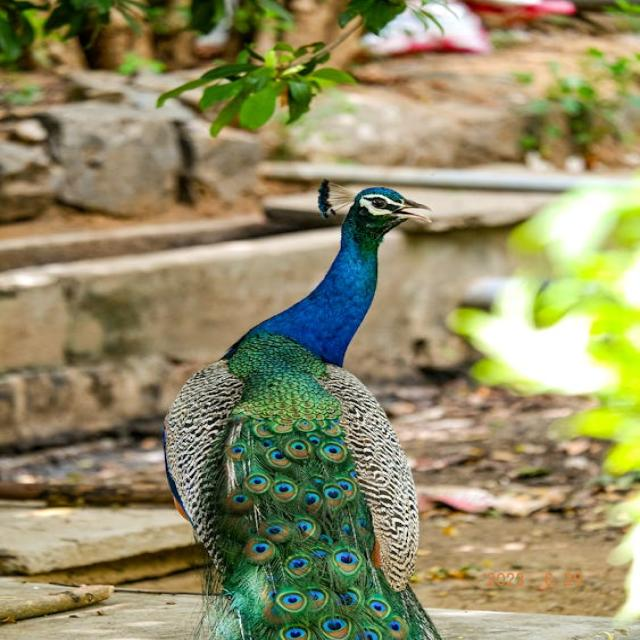peacock: (160, 168, 512, 640)
